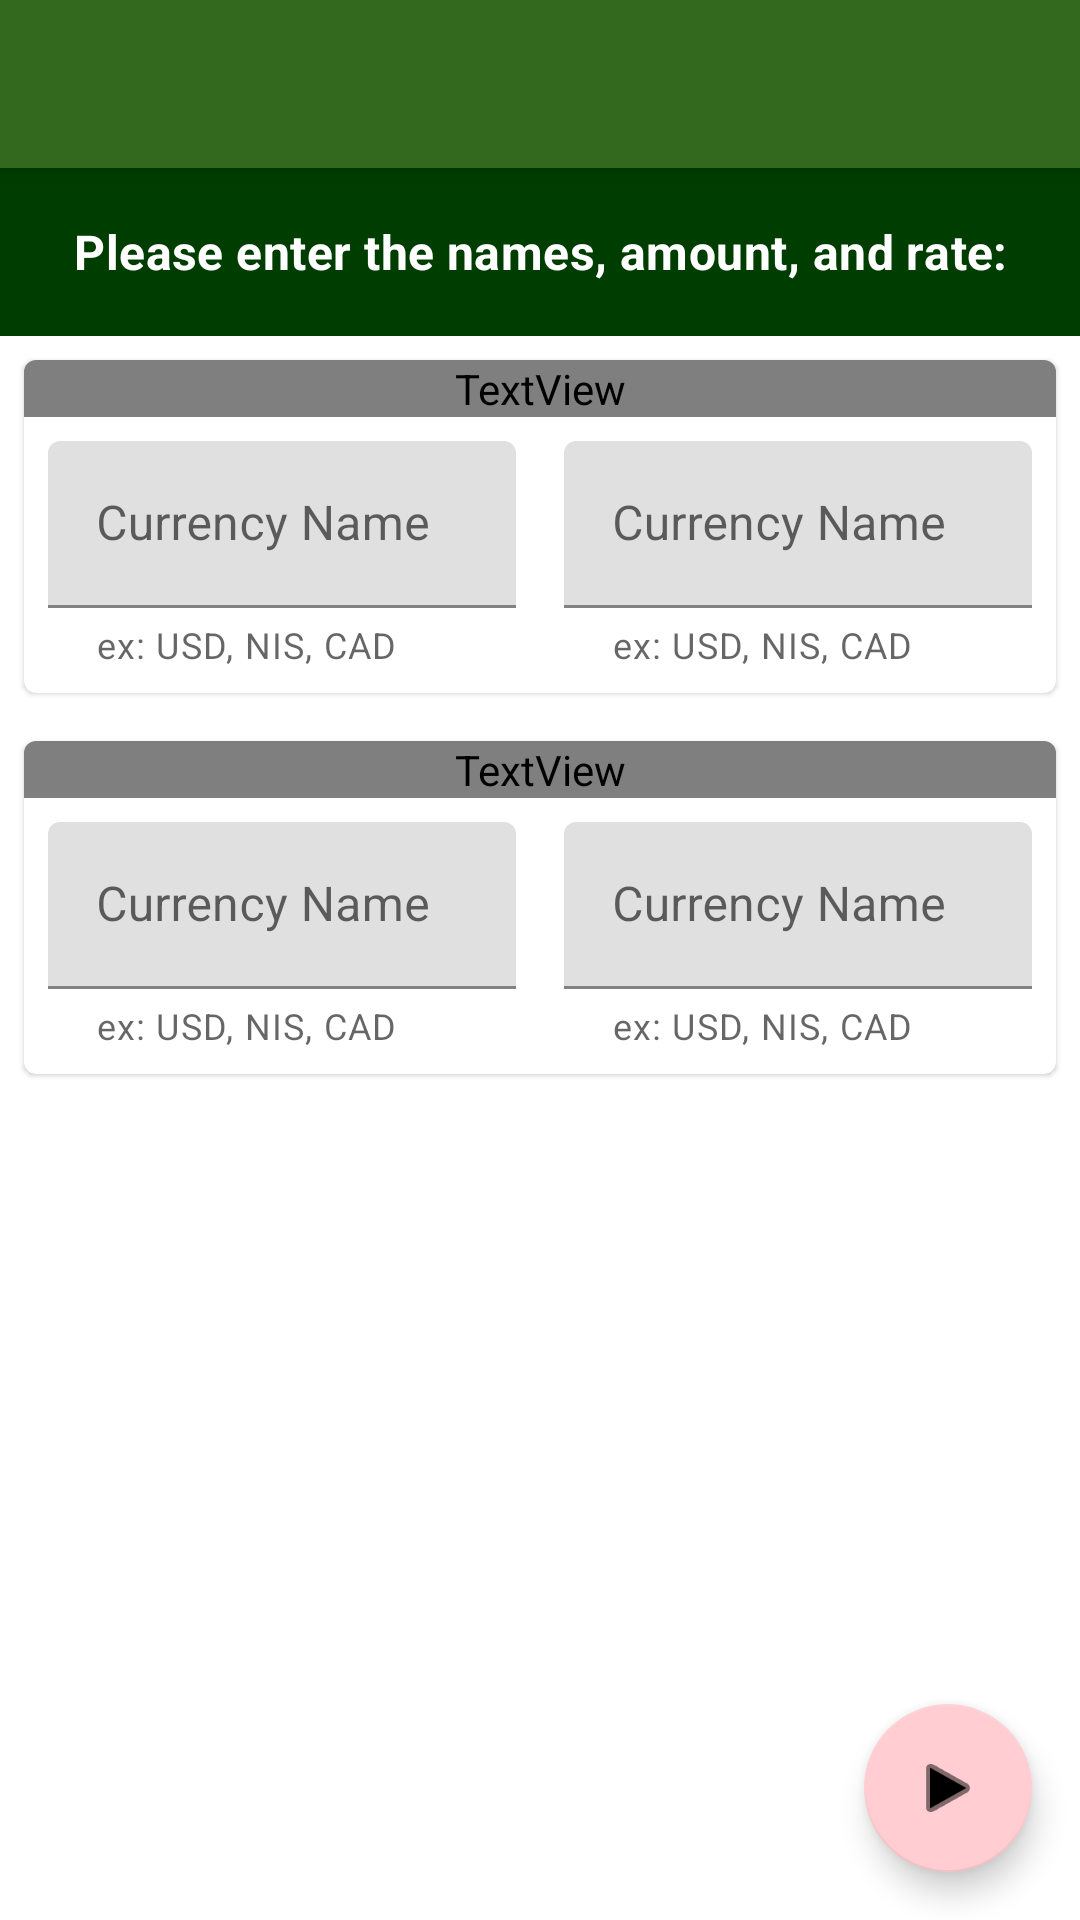

Where to tap for icons on this 1080x1920 app screen, as (x=x, y=y):
play: (x=948, y=1788)
